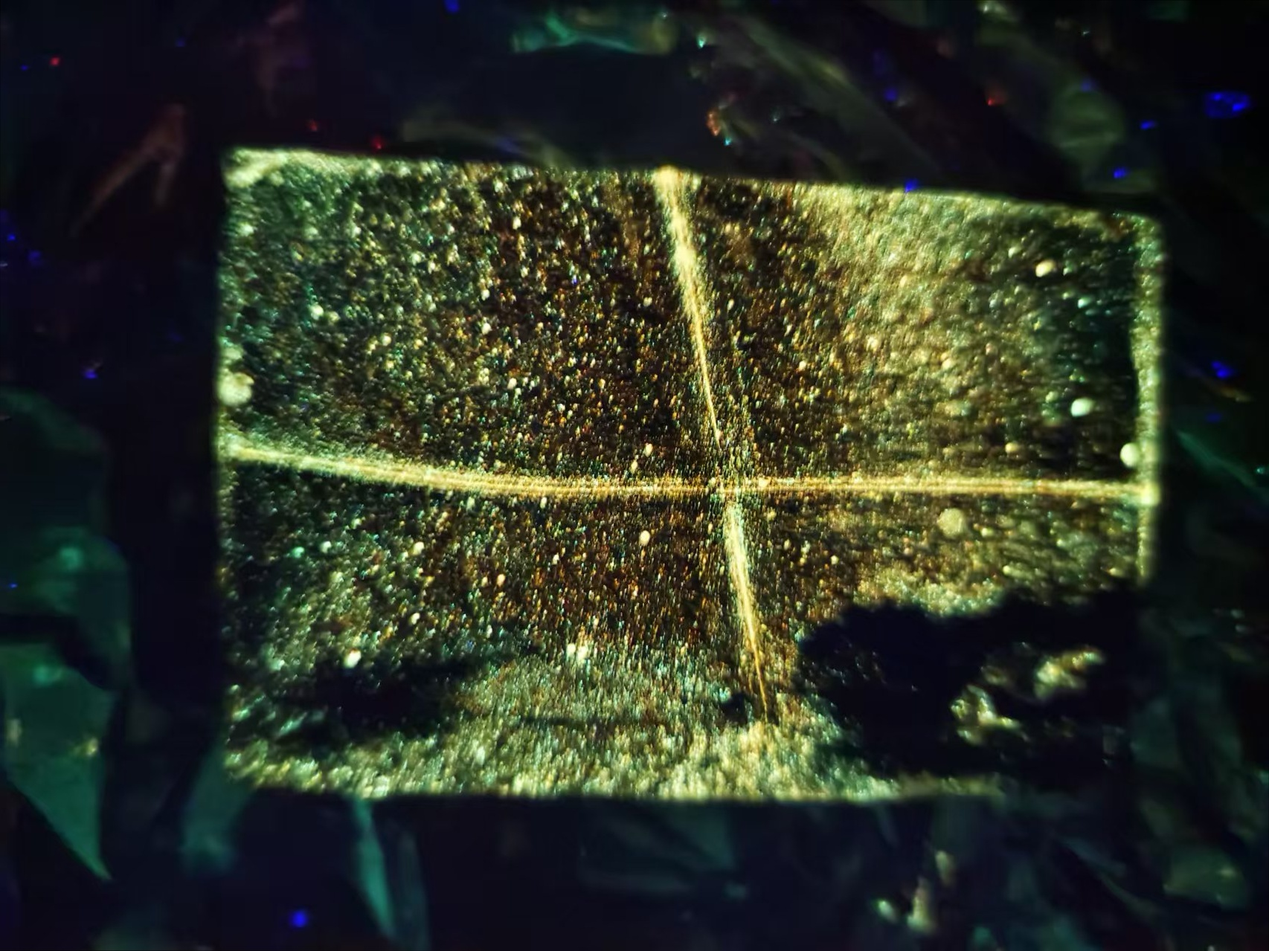Fissure: (199, 409, 1181, 531), (624, 165, 798, 724)
